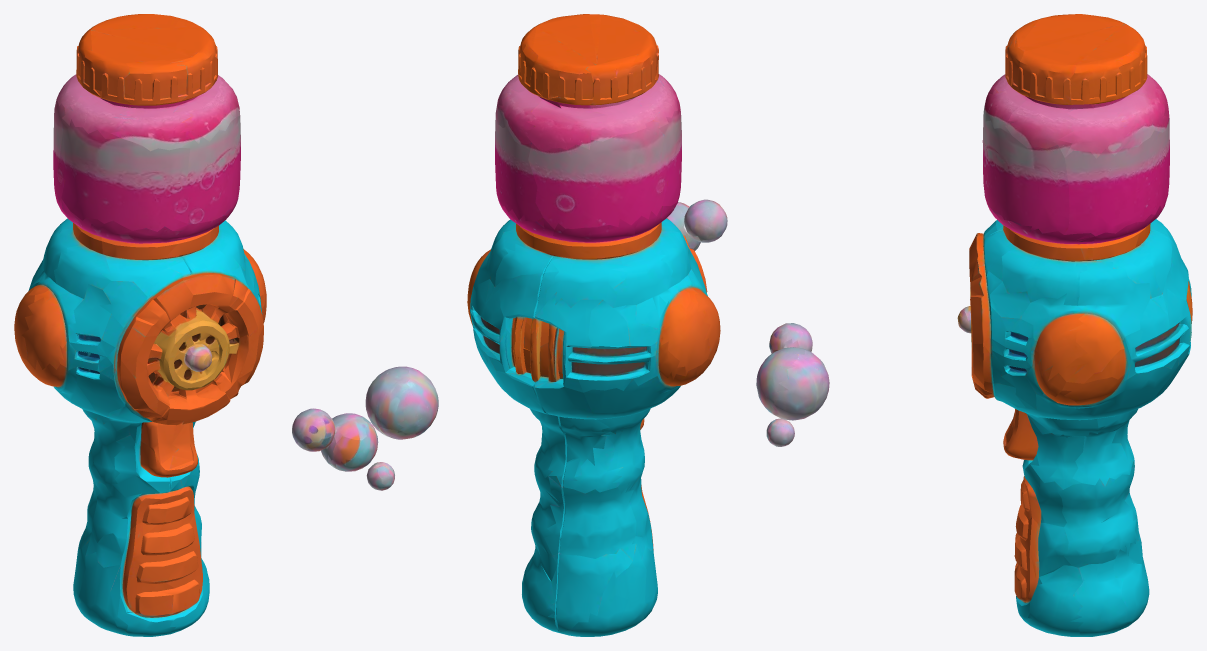
The model's file is bubble_blaster.glb.
3 renders of one model, left to right at view 1: azimuth 30°, elevation 25°; view 2: azimuth 150°, elevation 25°; view 3: azimuth 270°, elevation 25°, orthographic.
Visible parts, largest first — view 1: Mesh_0; view 2: Mesh_0; view 3: Mesh_0.
Boxes of the visible parts, x1,y1,x2,y2 form: Mesh_0: (14,14,438,636); Mesh_0: (467,14,727,636); Mesh_0: (756,14,1192,636).
Bounding box in the file's own units: 0.4809 × 1 × 0.6794.
Materials: 1 (1 with a texture image).
